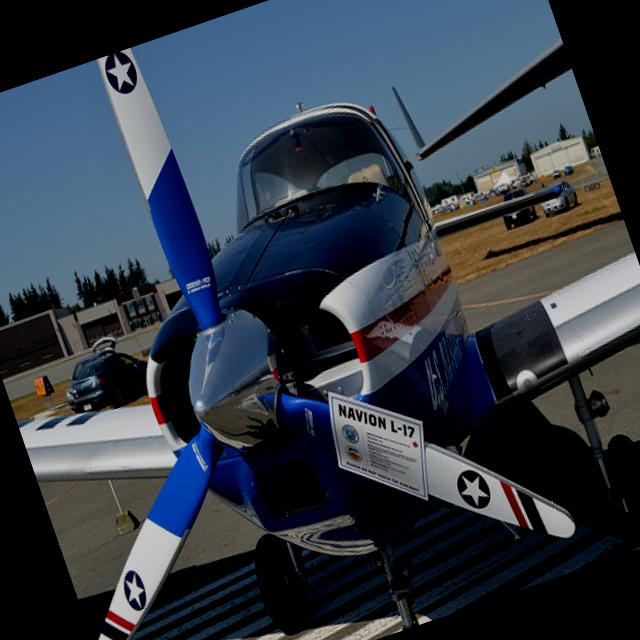Vehicle: (52, 334, 162, 422), (494, 184, 539, 232), (534, 176, 582, 218), (518, 170, 538, 188), (562, 162, 574, 175), (550, 166, 562, 178)
